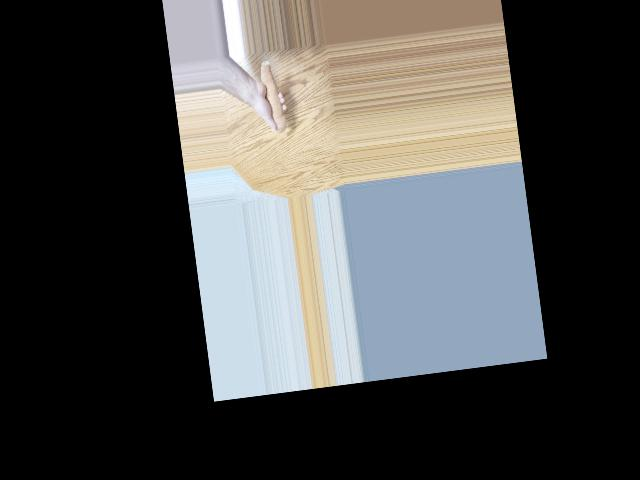sweet_potato: (256, 59, 290, 133)
